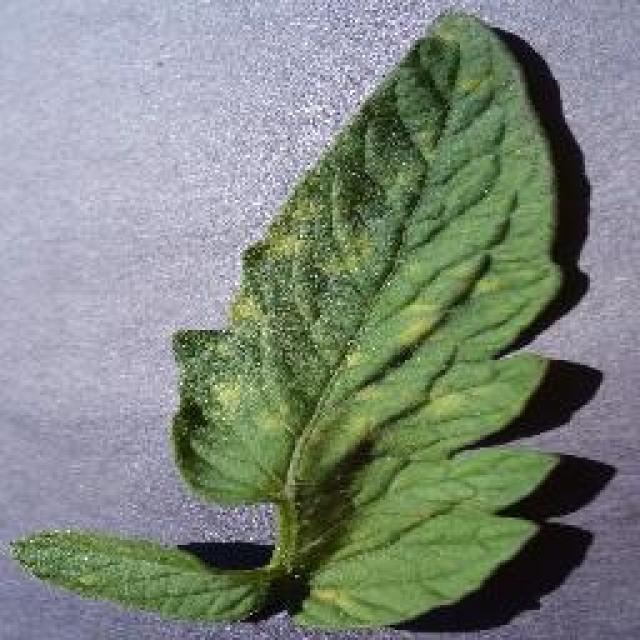Tom_Leaf_Mold: (239, 191, 509, 454)
